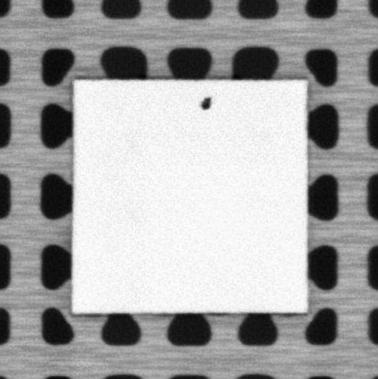DIE_INK: (199, 95, 213, 111)
